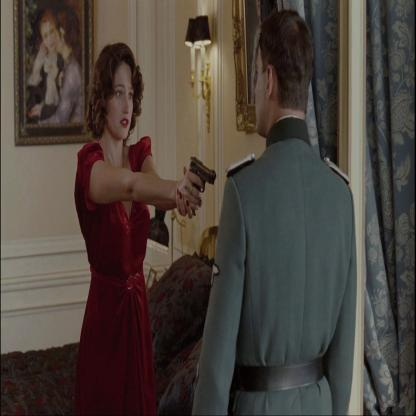gun: (178, 131, 217, 209)
